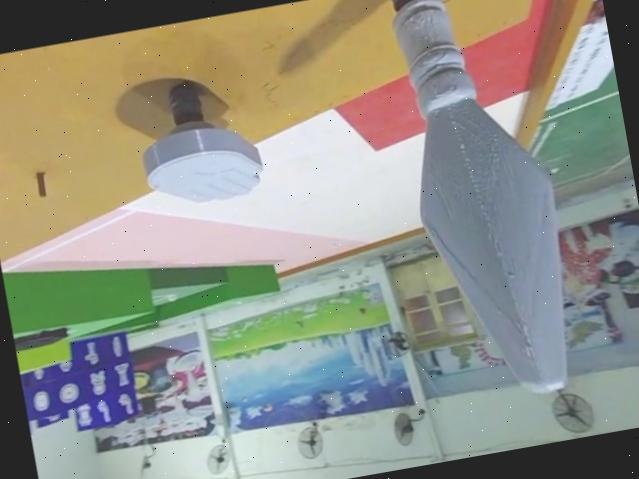Hand: (131, 67, 267, 216)
Sph: (381, 0, 592, 413)
